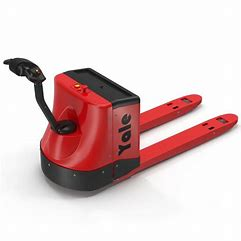Pallet Jack: (2, 57, 239, 191)
